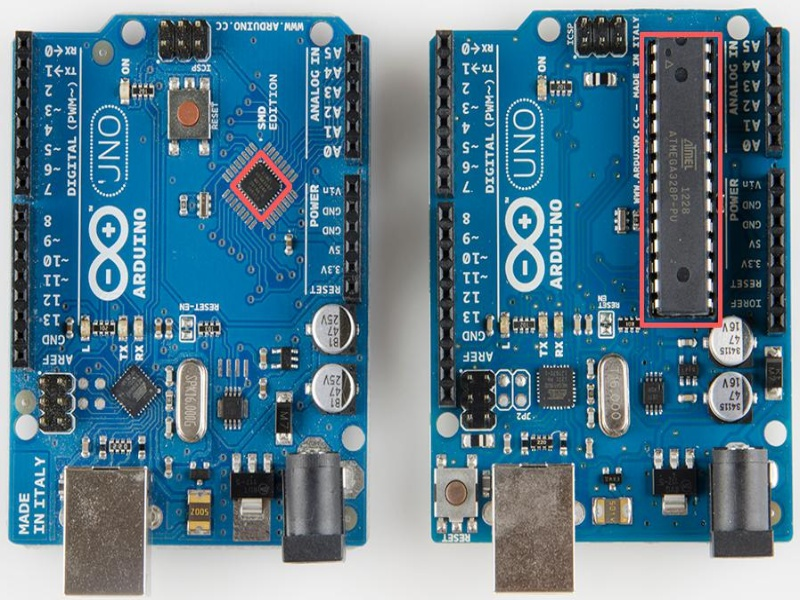uno: (395, 23, 800, 577)
